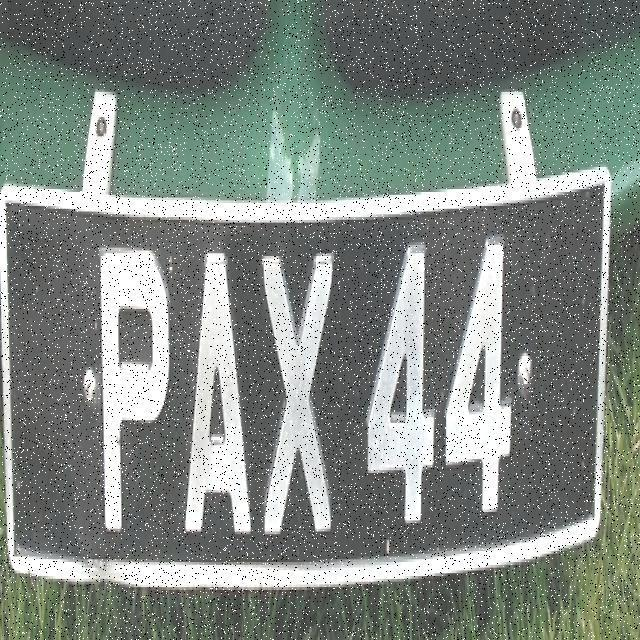LicensePlate: (0, 143, 617, 622)
